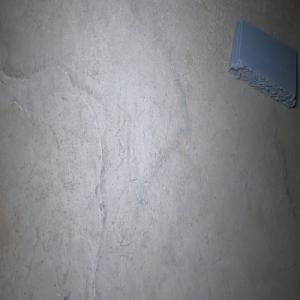PlasticPart: (227, 19, 297, 108)
